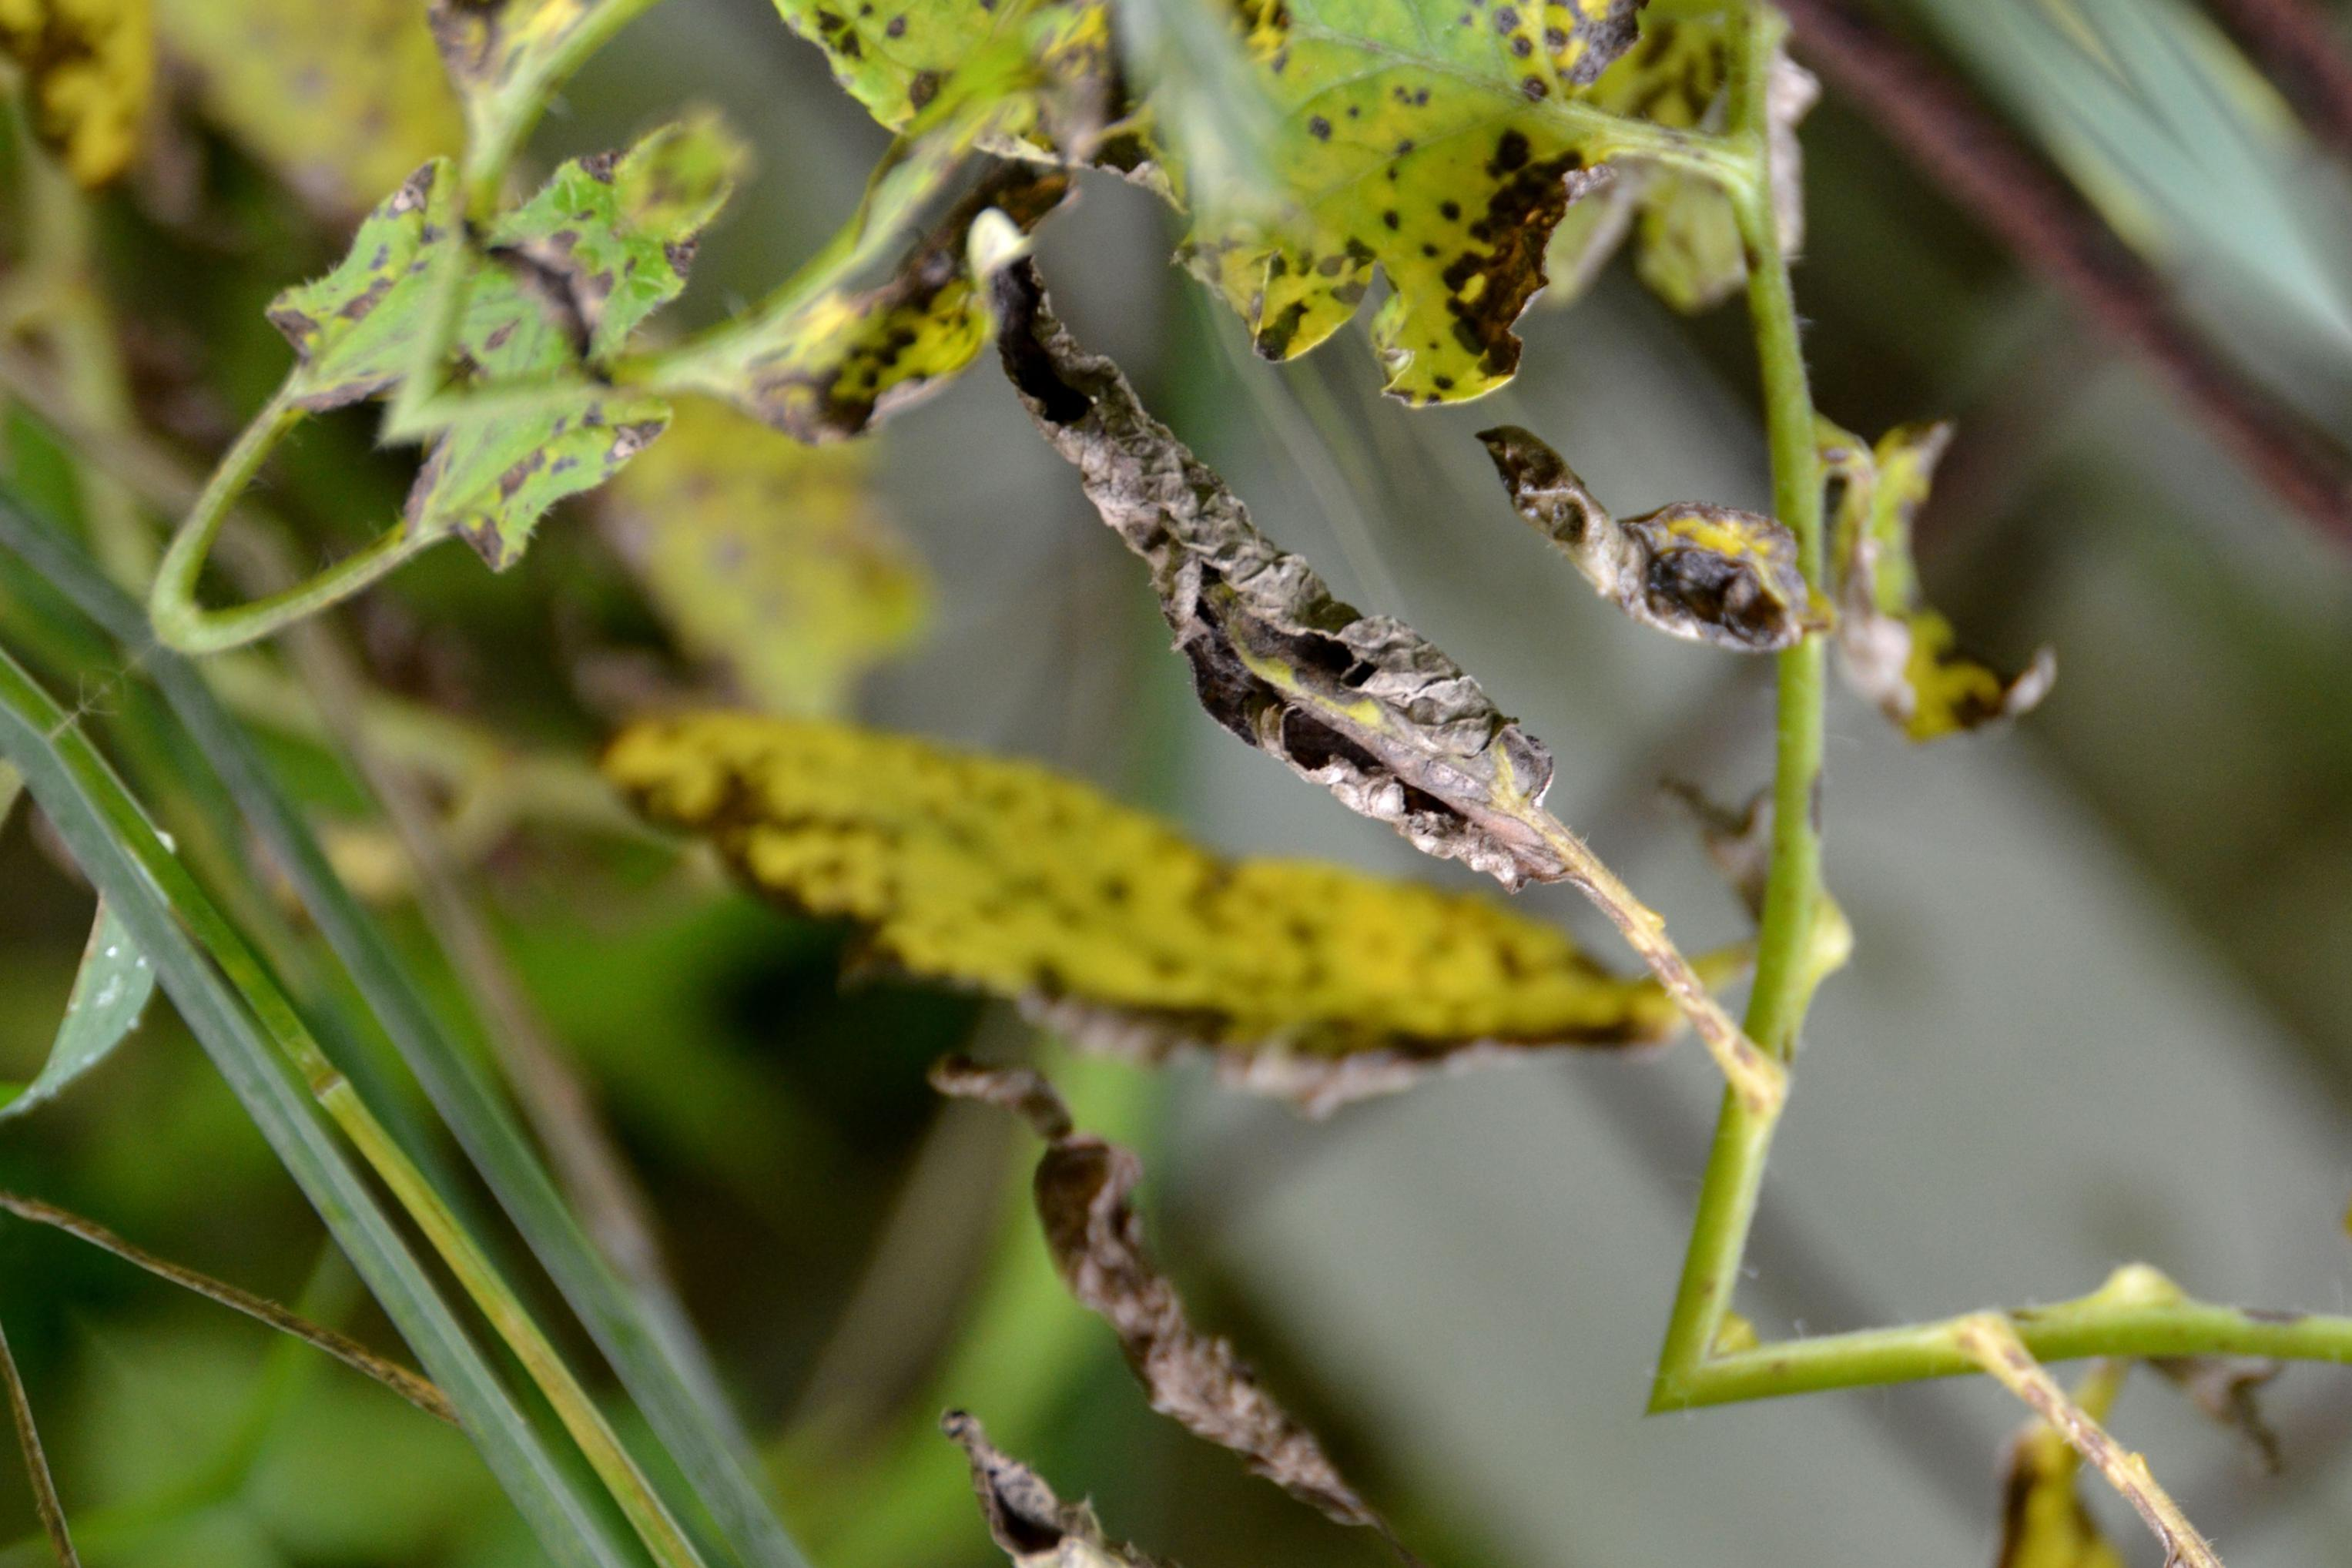Tomato Septoria leaf spot: (611, 364, 1670, 1444), (833, 0, 1804, 565)
